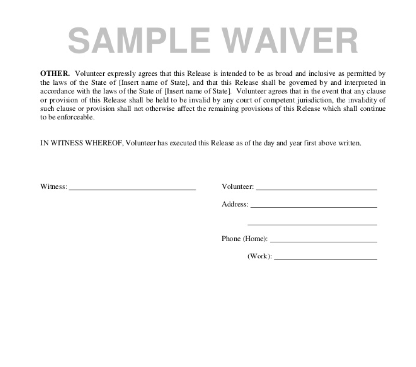textline: (245, 215, 379, 228), (268, 230, 379, 245), (255, 180, 379, 193), (273, 248, 379, 263), (67, 180, 198, 192), (249, 199, 379, 211)
